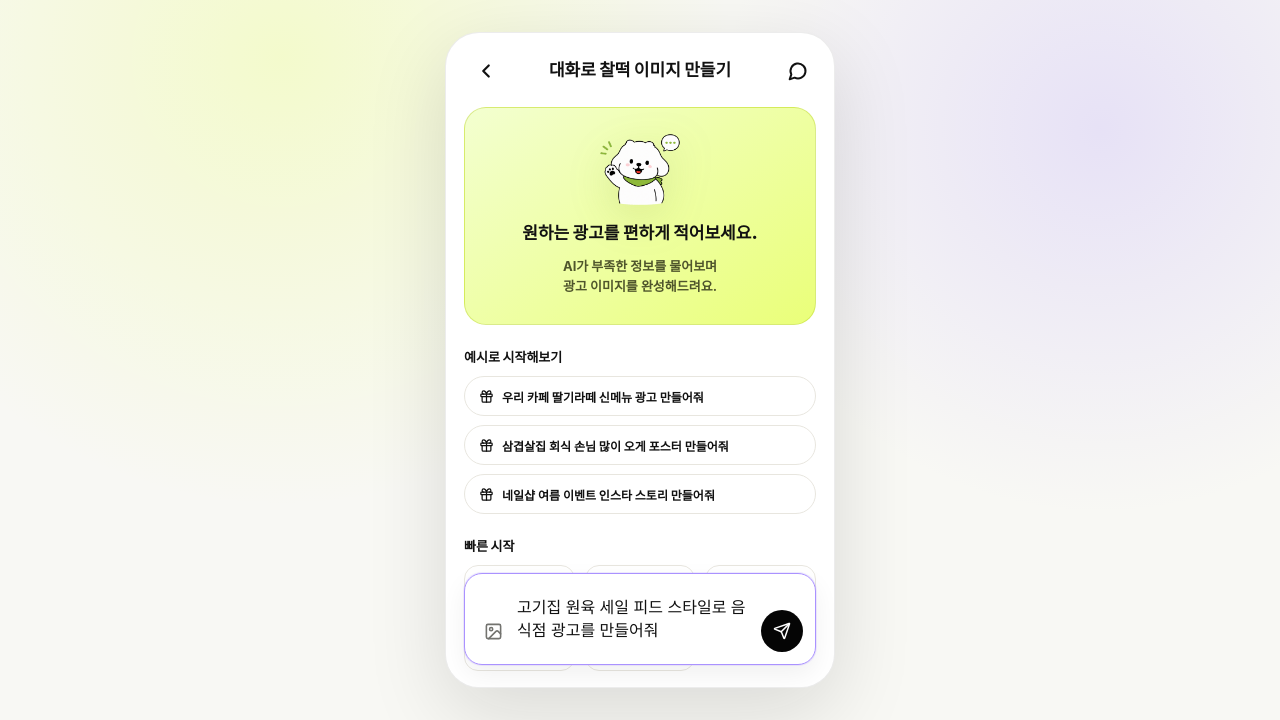
Test case: ChatGenerateClient › keeps inferred context visible when a reference request needs one more answer
The width and height of the screenshot is (1280, 720).
Expected: the heading "대화로 찰떡 이미지 만들기" is shown, [549,60,731,80]
Click the button named "요청 보내기" at (782, 631), box [761,610,803,652]
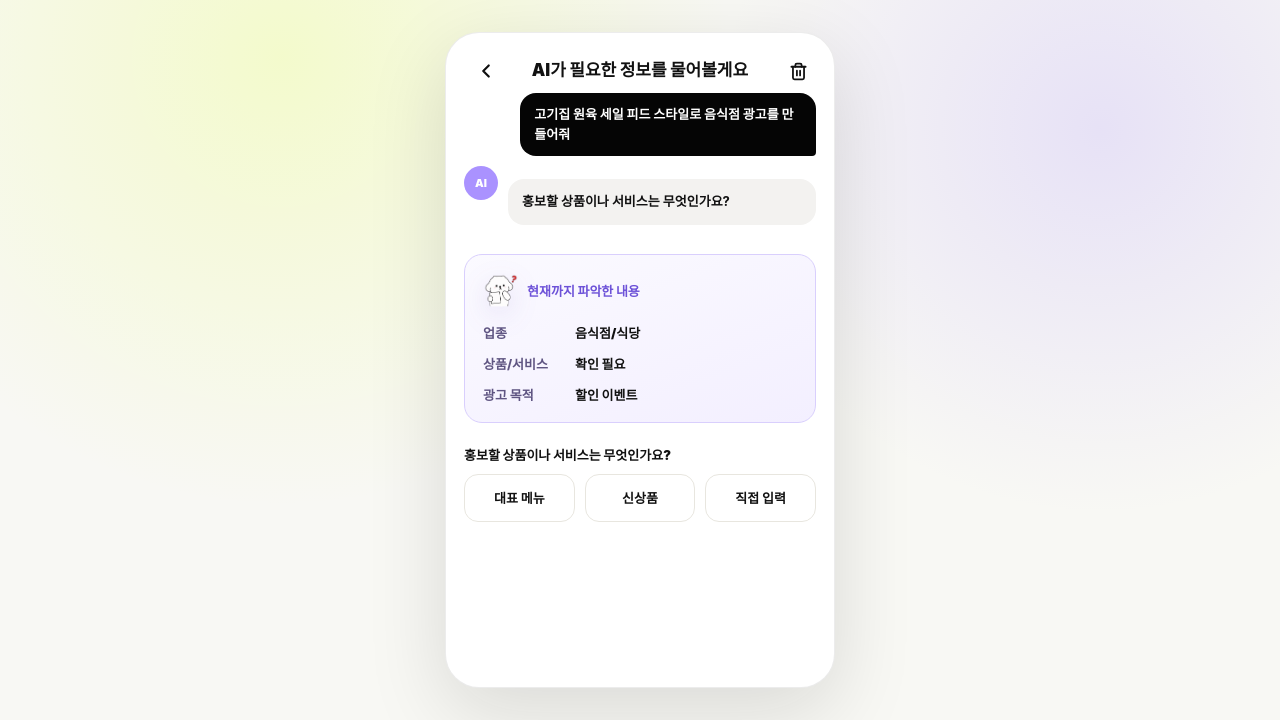
Expected: the text "홍보할 상품이나 서비스는 무엇인가요?" is shown 2 times, [508,179,816,224]; [464,447,671,463]
Expected: the text "음식점/식당" is shown, [575,325,640,341]
Expected: the text "할인 이벤트" is shown, [575,387,637,403]
